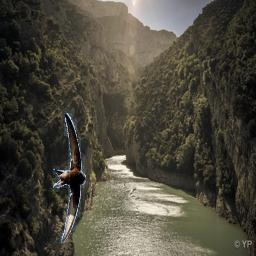Swallow: (53, 113, 86, 243)
